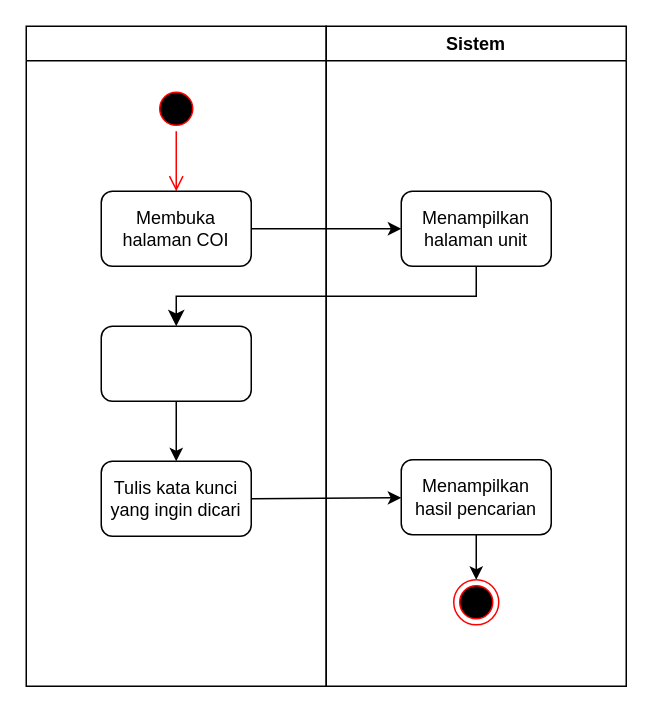
This 653x713 diagram has some shape labels left out. The box of each missing label's shape, as (x1, y1, x2, y2) in pixels:
Pilih tanda cari data: (100, 325, 251, 401)
User: (25, 25, 326, 686)
